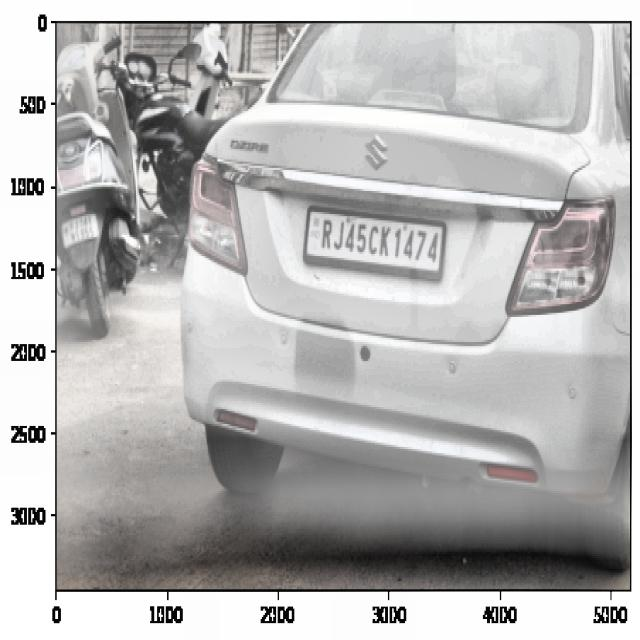license_plate: (316, 209, 445, 273)
